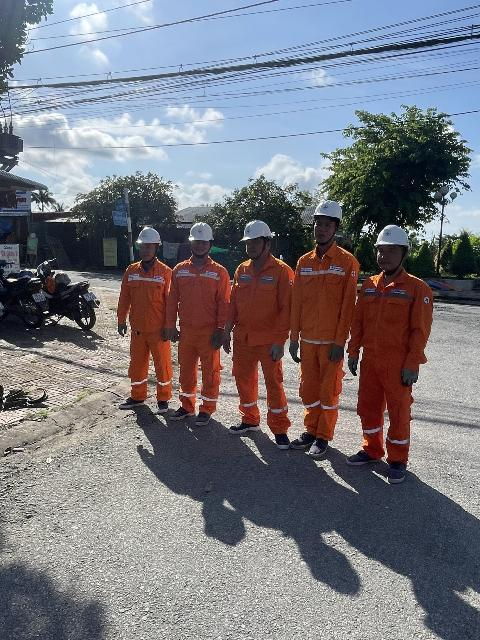gloves: (396, 366, 424, 391), (269, 336, 290, 365), (328, 337, 346, 368), (286, 340, 305, 365), (346, 356, 365, 379)
helmet: (366, 216, 413, 260), (304, 195, 347, 229), (232, 215, 272, 245), (184, 224, 218, 253), (131, 224, 164, 249)
shoes: (376, 454, 412, 487), (342, 448, 382, 467), (116, 393, 152, 413), (304, 431, 327, 459), (228, 418, 260, 437), (190, 408, 214, 428), (166, 402, 191, 421), (269, 430, 289, 451), (292, 432, 314, 451), (153, 397, 170, 415)
